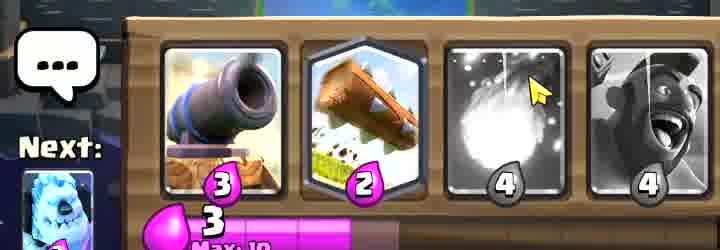cannon: (171, 49, 284, 194)
hog-rider: (585, 60, 686, 202)
ice-golem: (25, 171, 93, 249)
log: (310, 43, 424, 191)
